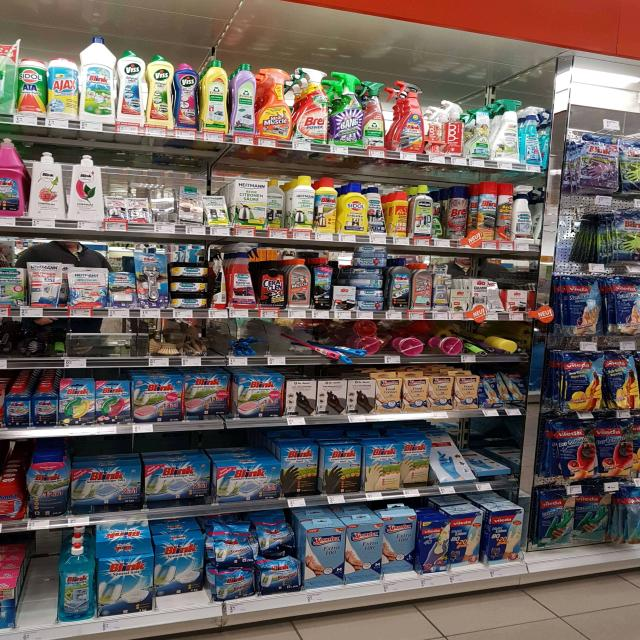empty: (18, 528, 64, 626)
